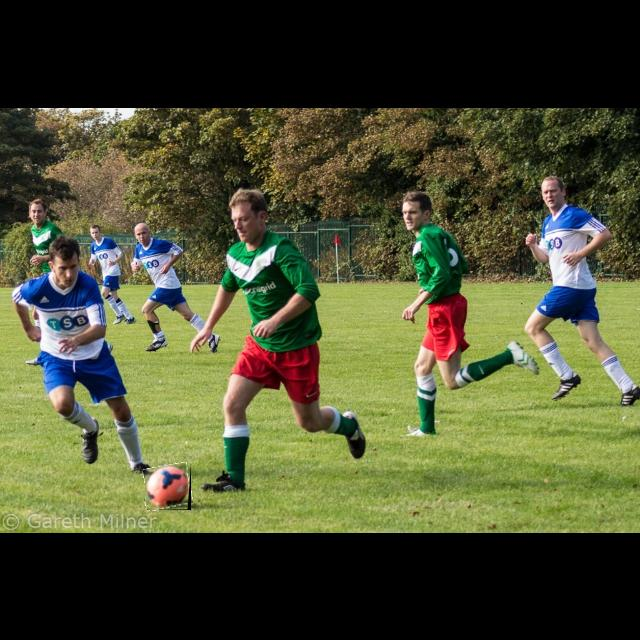Football: (145, 464, 191, 510)
